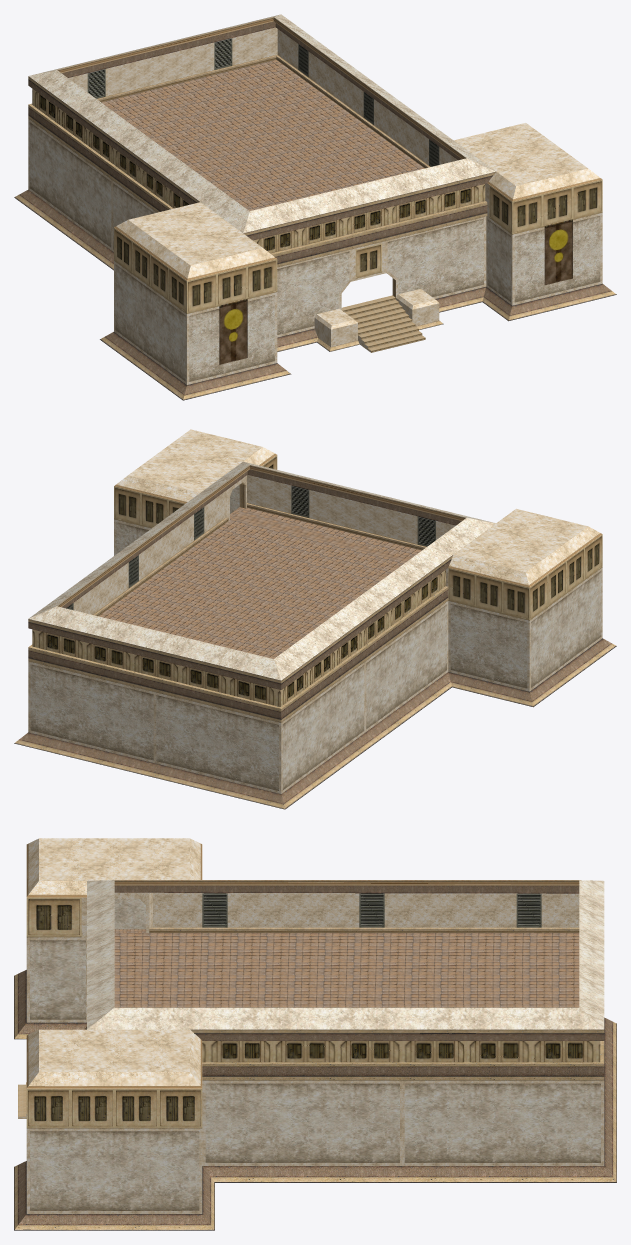
The model's file is thm_tato_assoc_hall_civ_s01_r0_exterior_mesh_exterior_l1.fbx.
The picture shows the model from 3 angles, top to bottom: view 1: azimuth 30°, elevation 25°; view 2: azimuth 150°, elevation 25°; view 3: azimuth 270°, elevation 25°; orthographic projection. The views are drawn at different scales.
Parts seen in each view (by area): view 1: mesh_node; view 2: mesh_node; view 3: mesh_node.
Boxes of the visible parts, x1,y1,x2,y2 form: mesh_node: (14,14,616,400); mesh_node: (14,429,616,809); mesh_node: (14,838,616,1230).
Size of the model in its own units: 48 by 14 by 48.
